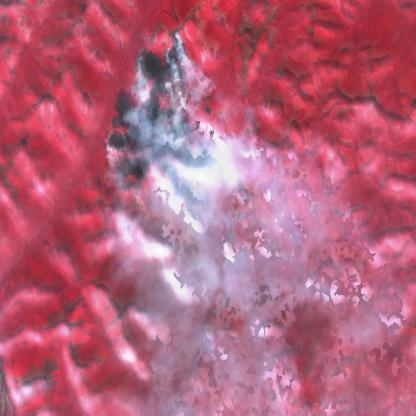fire: (101, 31, 223, 226)
